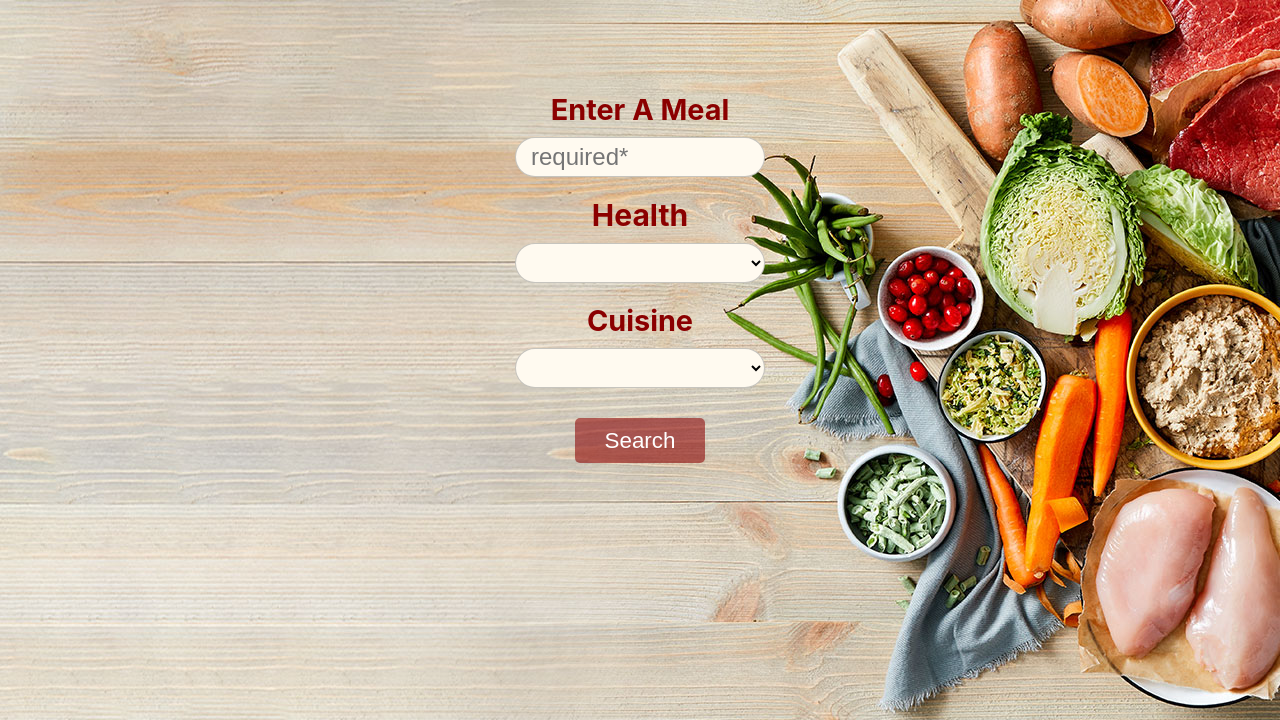
it: <Form /> validation › Bad request
The width and height of the screenshot is (1280, 720).
Type "meat" into the field with id "meal" at {"x": 640, "y": 157}, box [515,137,765,177]
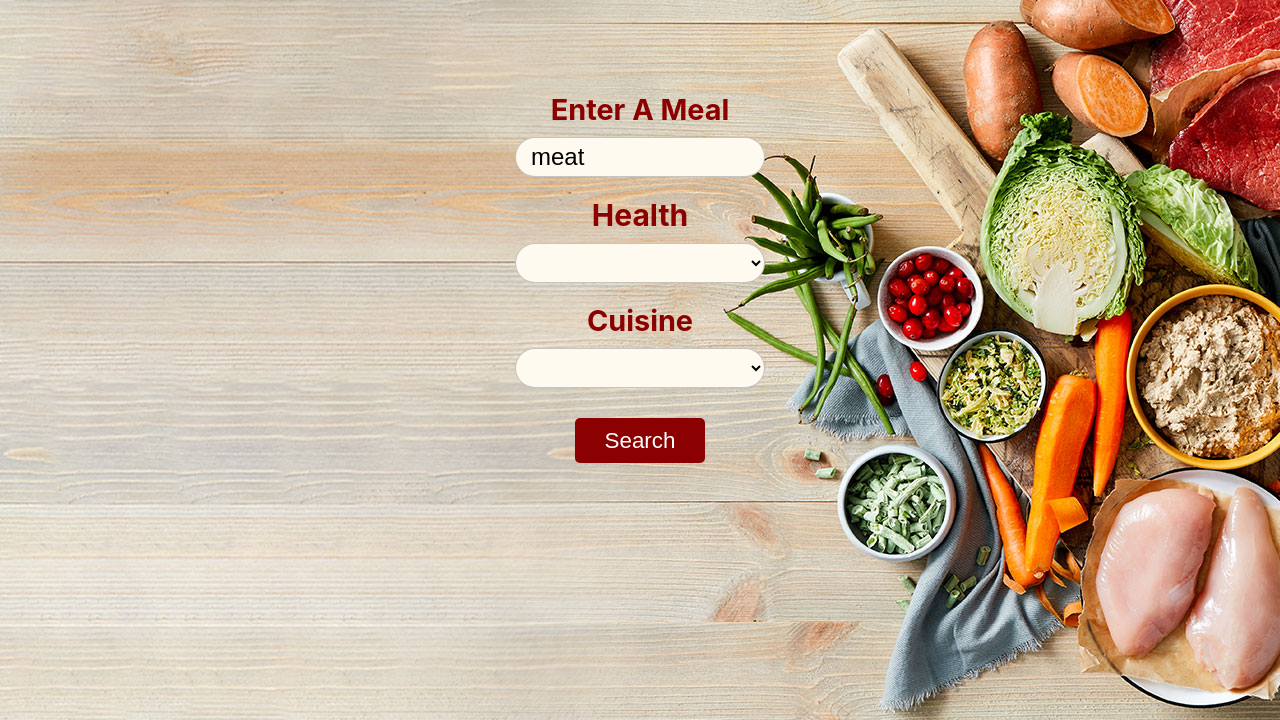
Click the button "search" at {"x": 640, "y": 441}, box [575,418,705,463]
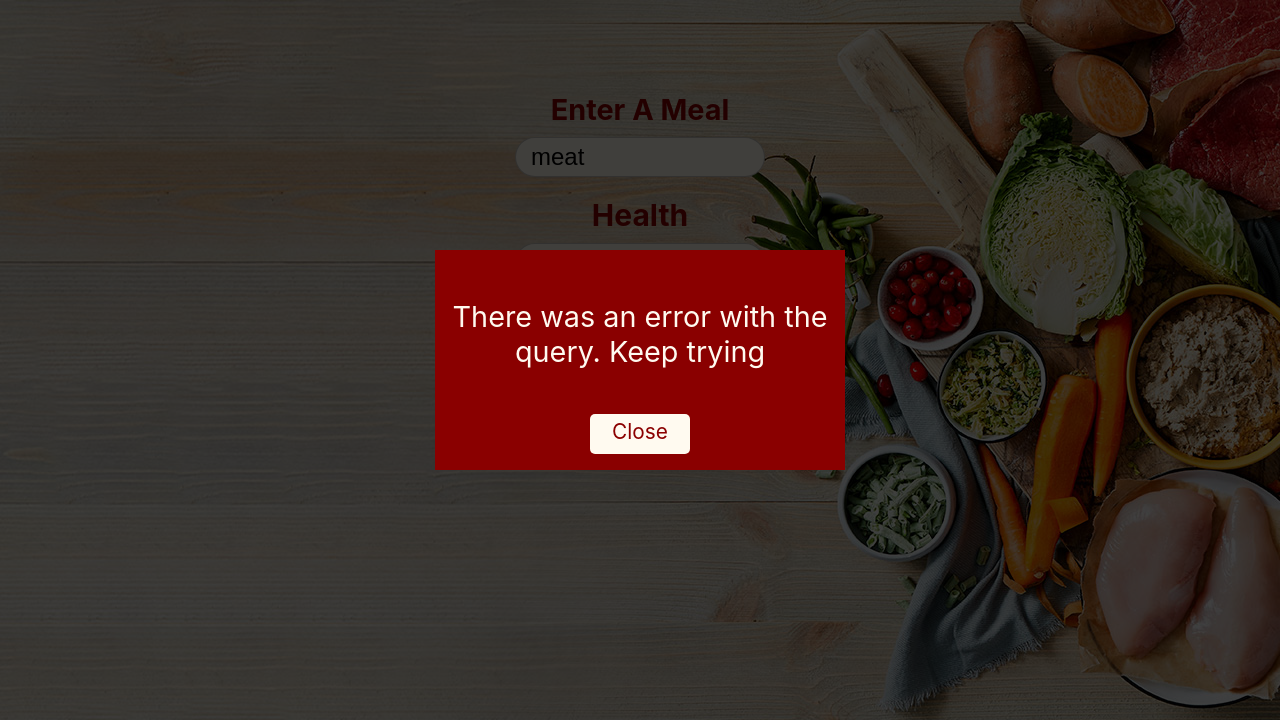
Check: the text "There was an error with the query. Keep trying" is shown, box [445,294,835,374]
